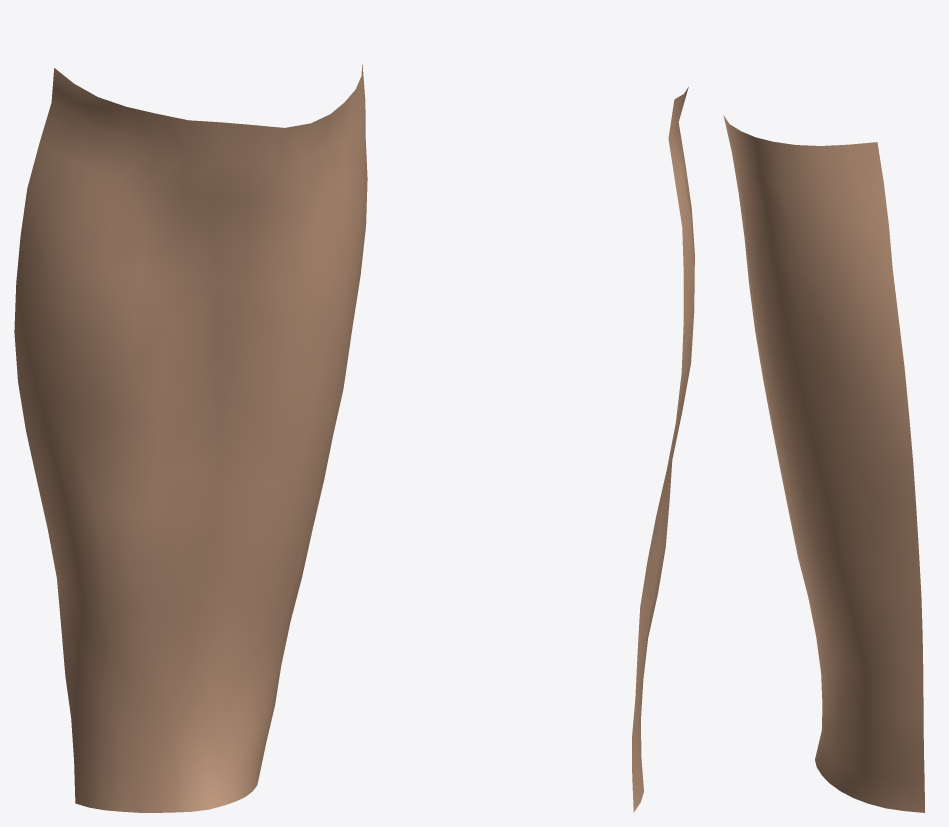
File: anterior-region-of-leg-l.glb
3 renders of one model, left to right at view 1: azimuth 30°, elevation 25°; view 2: azimuth 150°, elevation 25°; view 3: azimuth 270°, elevation 25°, orthographic. The views are drawn at different scales.
Visible parts, largest first — view 1: Anterior region of leg.l; view 2: Anterior region of leg.l; view 3: Anterior region of leg.l.
Boxes of the visible parts, x1=… form: Anterior region of leg.l: x1=14, y1=63, x2=367, y2=812; Anterior region of leg.l: x1=632, y1=87, x2=694, y2=812; Anterior region of leg.l: x1=723, y1=115, x2=924, y2=812.
Size of the model in its own units: 0.1182 by 0.2688 by 0.0725.
